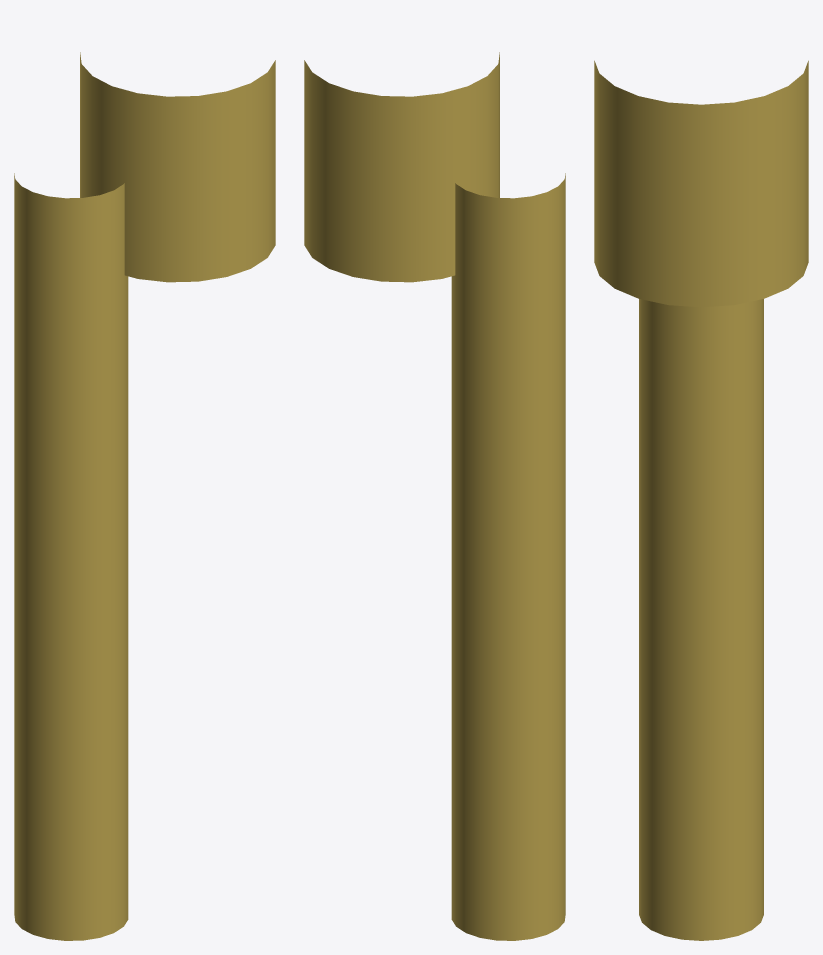
File: trumpet.glb
3 views of the same model, side by side, from view 1: azimuth 30°, elevation 25°; view 2: azimuth 150°, elevation 25°; view 3: azimuth 270°, elevation 25° (orthographic). The views are drawn at different scales.
Parts seen in each view (by area): view 1: trumpet; view 2: trumpet; view 3: trumpet.
Part boxes in pixels (x1=…): trumpet: x1=14, y1=52, x2=275, y2=940; trumpet: x1=304, y1=52, x2=565, y2=940; trumpet: x1=594, y1=60, x2=808, y2=940.
Bounding box in the file's own units: 0.34 × 1.12 × 0.24.
